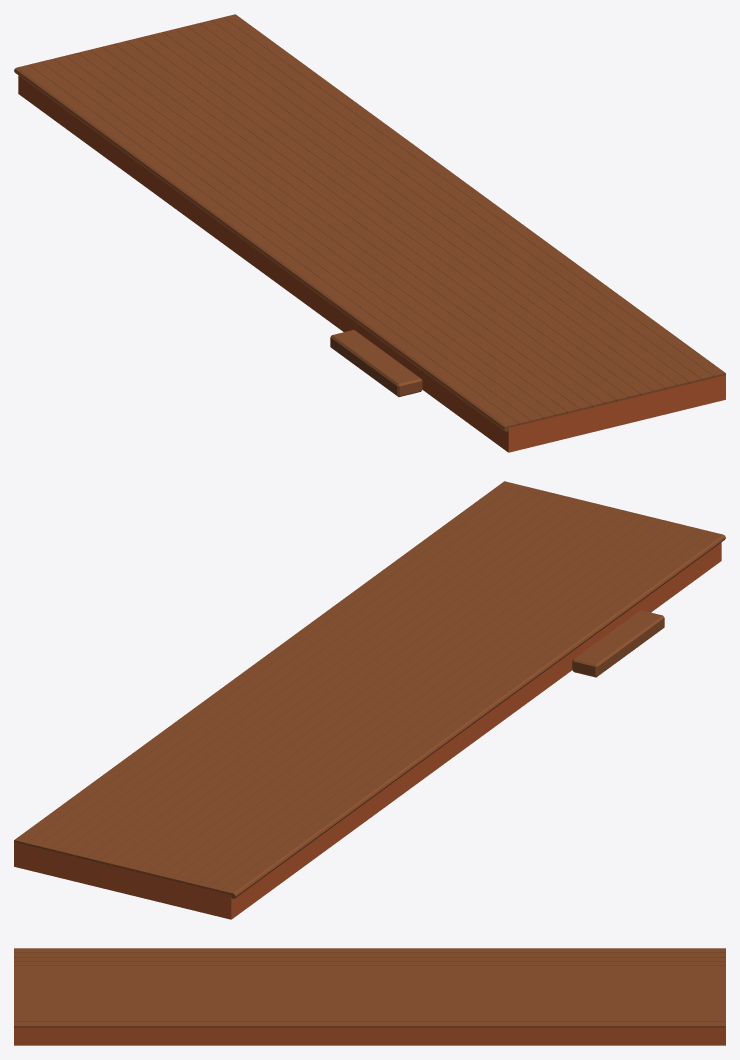
The picture shows the model from 3 angles, top to bottom: view 1: azimuth 30°, elevation 25°; view 2: azimuth 150°, elevation 25°; view 3: azimuth 270°, elevation 25°; orthographic projection. The views are drawn at different scales.
Parts seen in each view (by area): view 1: deck_frame, deck_board_8, deck_board_15, deck_board_4, deck_board_5, deck_board_11, deck_board_14, deck_board_1, deck_board_2, deck_board_17, deck_board_9, deck_board_10 (+9 smaller); view 2: deck_frame, deck_board_8, deck_board_15, deck_board_4, deck_board_5, deck_board_11, deck_board_14, deck_board_1, deck_board_2, deck_board_17, deck_board_9, deck_board_10 (+9 smaller); view 3: deck_frame, deck_board_17, deck_board_0, deck_board_1, deck_board_2, deck_board_3, deck_board_5, deck_board_6, deck_board_7, deck_board_8, deck_board_9, deck_board_10 (+8 smaller).
Boxes of the visible parts, box(x1,y1,x2,y2) form: deck_frame: box(18, 75, 725, 452); deck_board_8: box(114, 41, 616, 404); deck_board_15: box(199, 20, 701, 383); deck_board_4: box(65, 53, 567, 416); deck_board_5: box(78, 50, 579, 413); deck_board_11: box(151, 32, 652, 395); deck_board_14: box(187, 23, 689, 386); deck_board_1: box(29, 61, 530, 425); deck_board_2: box(41, 59, 543, 422); deck_board_17: box(223, 14, 725, 377); deck_board_9: box(126, 38, 628, 401); deck_board_10: box(138, 35, 640, 398); deck_frame: box(14, 542, 721, 919); deck_board_8: box(123, 508, 625, 871); deck_board_15: box(38, 487, 540, 850); deck_board_4: box(172, 520, 674, 883); deck_board_5: box(160, 517, 661, 880); deck_board_11: box(87, 499, 588, 862); deck_board_14: box(50, 490, 552, 853); deck_board_1: box(209, 528, 710, 892); deck_board_2: box(196, 526, 698, 889); deck_board_17: box(14, 481, 516, 844); deck_board_9: box(111, 505, 613, 868); deck_board_10: box(99, 502, 601, 865); deck_frame: box(14, 1027, 725, 1045); deck_board_17: box(14, 1022, 725, 1027); deck_board_0: box(14, 948, 725, 952); deck_board_1: box(14, 953, 725, 957); deck_board_2: box(14, 957, 725, 961); deck_board_3: box(14, 961, 725, 965); deck_board_5: box(14, 970, 725, 974); deck_board_6: box(14, 974, 725, 978); deck_board_7: box(14, 978, 725, 982); deck_board_8: box(14, 983, 725, 987); deck_board_9: box(14, 987, 725, 991); deck_board_10: box(14, 991, 725, 995).
Bounding box in the file's own units: 2.88 × 0.3 × 10.
